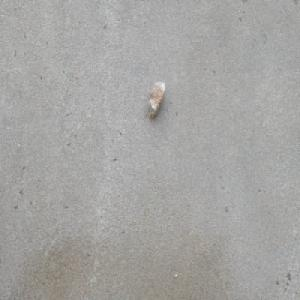Rock: (147, 80, 166, 119)
